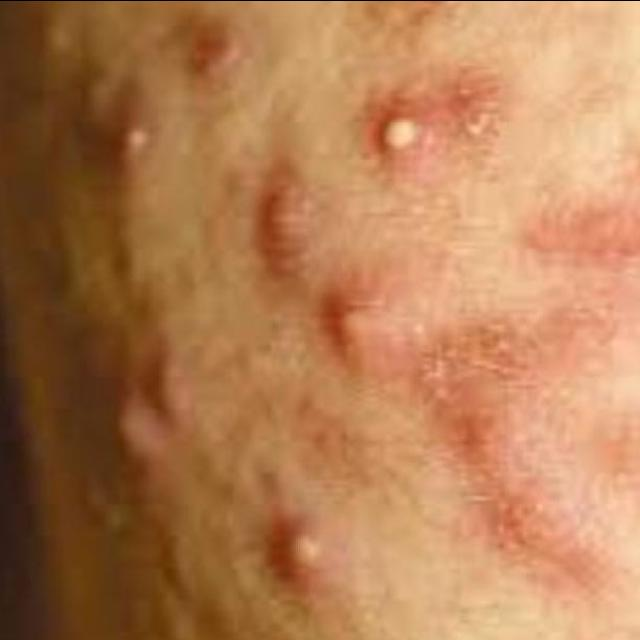pustule: (339, 80, 454, 183), (309, 252, 415, 357), (83, 56, 178, 169), (255, 503, 359, 589)
